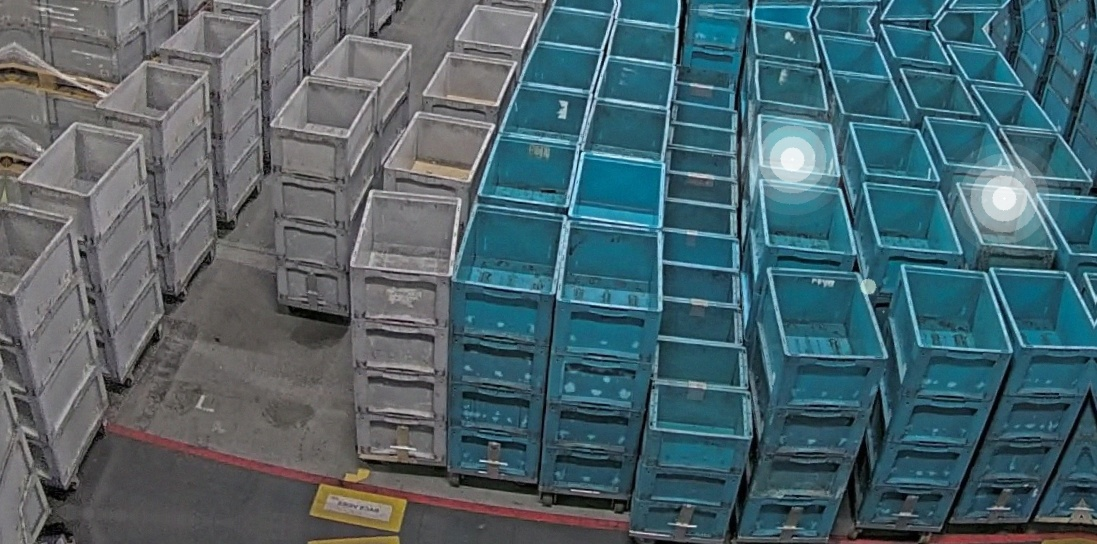4G: (335, 186, 463, 465), (258, 73, 382, 320)
B4: (848, 260, 1020, 537), (734, 260, 892, 544), (951, 264, 1097, 529), (539, 217, 669, 498), (441, 202, 569, 483)
B8: (627, 333, 759, 541)
